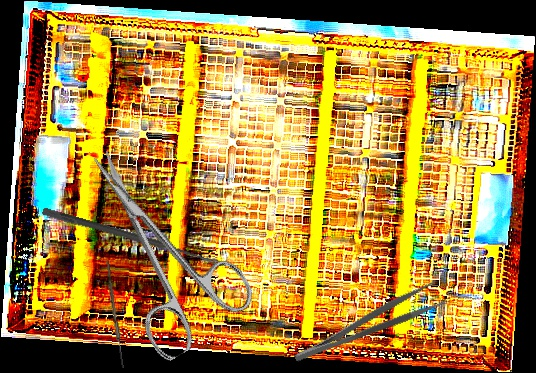Dressing Forceps: (287, 279, 447, 366)
Iris Scissors: (54, 123, 263, 365)
Surgical Spoon: (41, 207, 224, 268), (104, 260, 126, 369)
